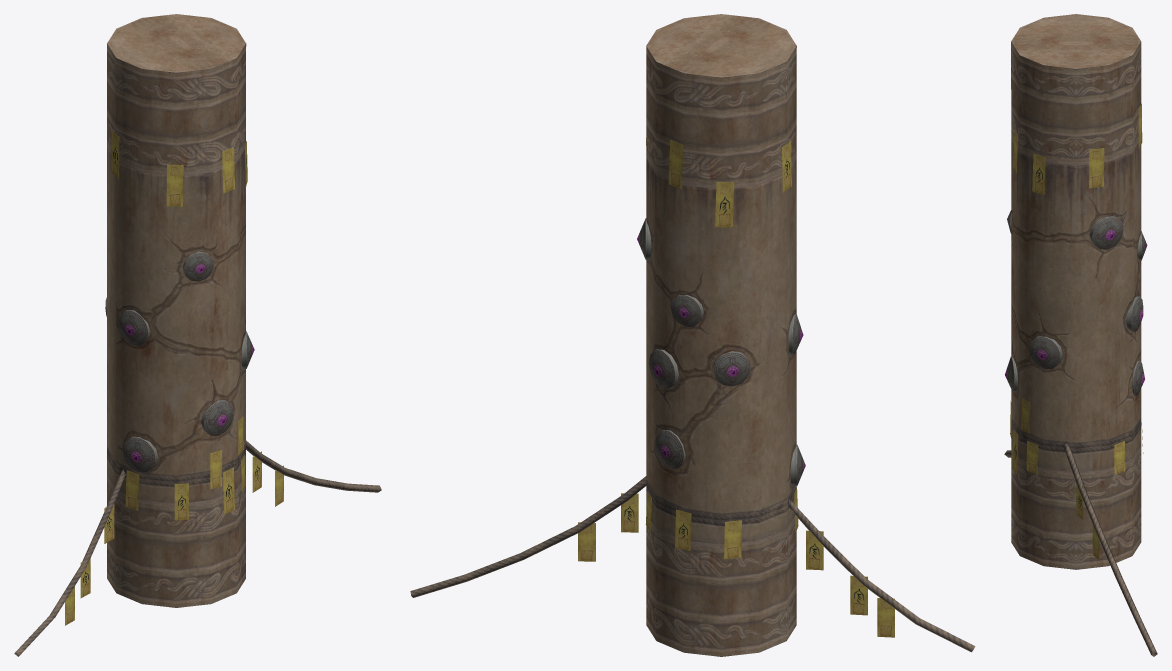
Rendered from b_zx_shizhu01_01.FBX.
3 views of the same model, side by side, from view 1: azimuth 30°, elevation 25°; view 2: azimuth 150°, elevation 25°; view 3: azimuth 270°, elevation 25° (orthographic). The views are drawn at different scales.
Parts seen in each view (by area): view 1: b_zx_shizhu01_01; view 2: b_zx_shizhu01_01; view 3: b_zx_shizhu01_01.
Boxes of the visible parts, x1=… form: b_zx_shizhu01_01: x1=14, y1=14, x2=381, y2=656; b_zx_shizhu01_01: x1=410, y1=14, x2=975, y2=656; b_zx_shizhu01_01: x1=1004, y1=14, x2=1157, y2=656.
Bounding box in the file's own units: 6.47 × 7.53 × 2.07.
